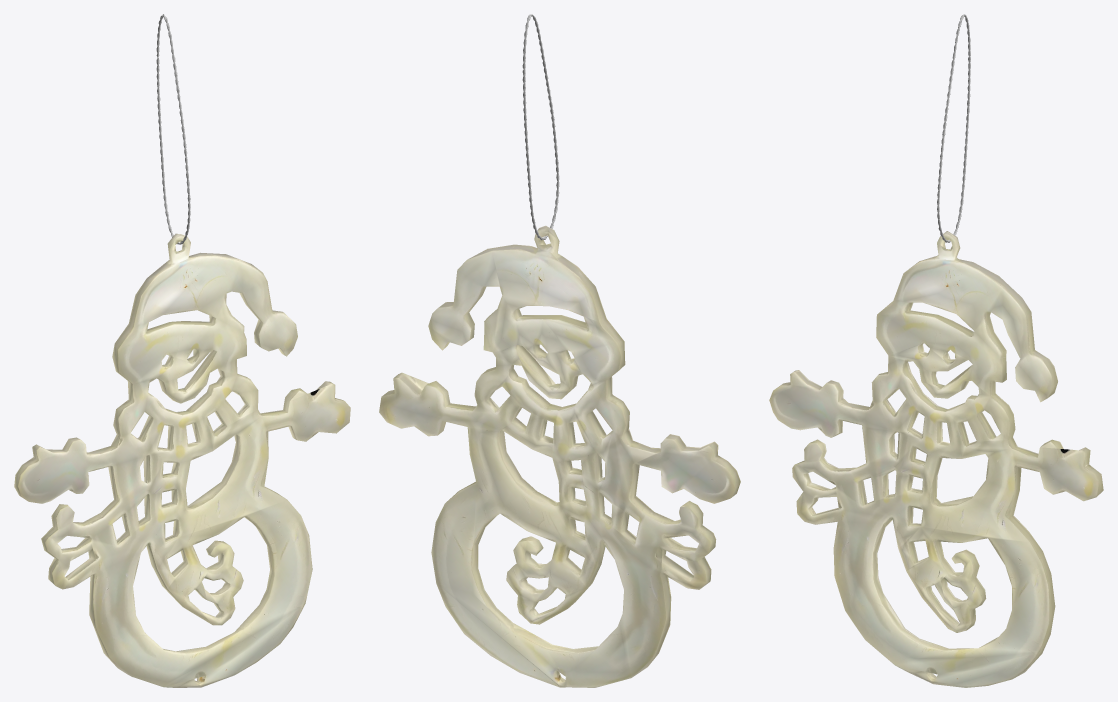
File: Snowman.glb
3 views of the same model, side by side, from view 1: azimuth 30°, elevation 25°; view 2: azimuth 150°, elevation 25°; view 3: azimuth 330°, elevation 25° (orthographic). The views are drawn at different scales.
Parts seen in each view (by area): view 1: Mesh1.0, GN Instance; view 2: Mesh1.0, GN Instance; view 3: Mesh1.0, GN Instance.
Boxes of the visible parts, x1=… form: Mesh1.0: x1=14, y1=233, x2=350, y2=687; GN Instance: x1=156, y1=14, x2=190, y2=244; Mesh1.0: x1=379, y1=225, x2=740, y2=687; GN Instance: x1=522, y1=14, x2=559, y2=240; Mesh1.0: x1=769, y1=231, x2=1103, y2=687; GN Instance: x1=937, y1=14, x2=970, y2=242.
Size of the model in its own units: 0.0944 by 0.1761 by 0.0204.
Materials: 2 (1 with a texture image).
